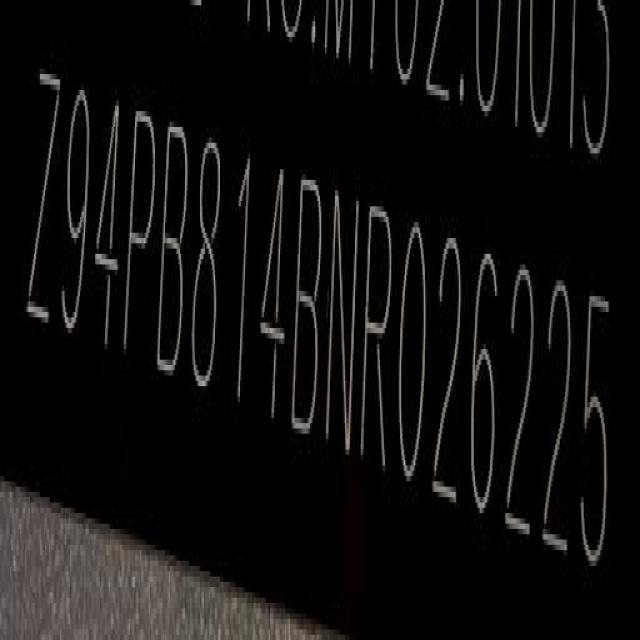0: (397, 215, 429, 488)
1: (235, 150, 251, 408)
2: (544, 273, 576, 560), (506, 260, 538, 541), (434, 234, 462, 503)
4: (259, 167, 289, 425), (95, 90, 124, 355)
5: (583, 294, 615, 576)
6: (469, 250, 499, 521)
8: (193, 132, 224, 397)
9: (60, 76, 90, 350)
B: (295, 169, 326, 438), (158, 113, 188, 380)
N: (327, 180, 359, 457)
P: (126, 102, 159, 371)
R: (363, 197, 393, 468)
Z: (26, 60, 60, 341)
